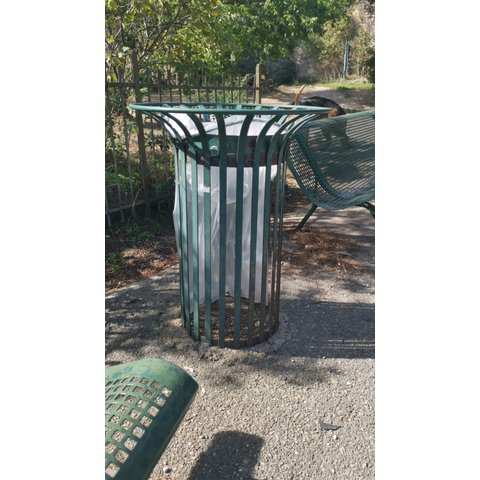poubelle: (129, 96, 325, 352)
